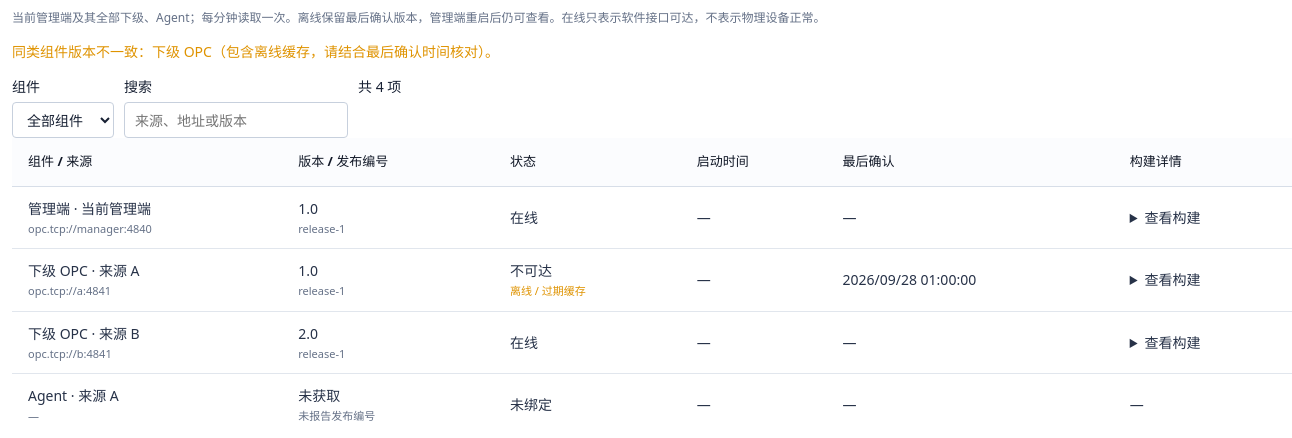
Test case: SoftwareVersionTable › filters by component and text without mixing identities
Select "下级 OPC" in the dropdown named "软件组件筛选": (63,120) [12, 102, 114, 138]
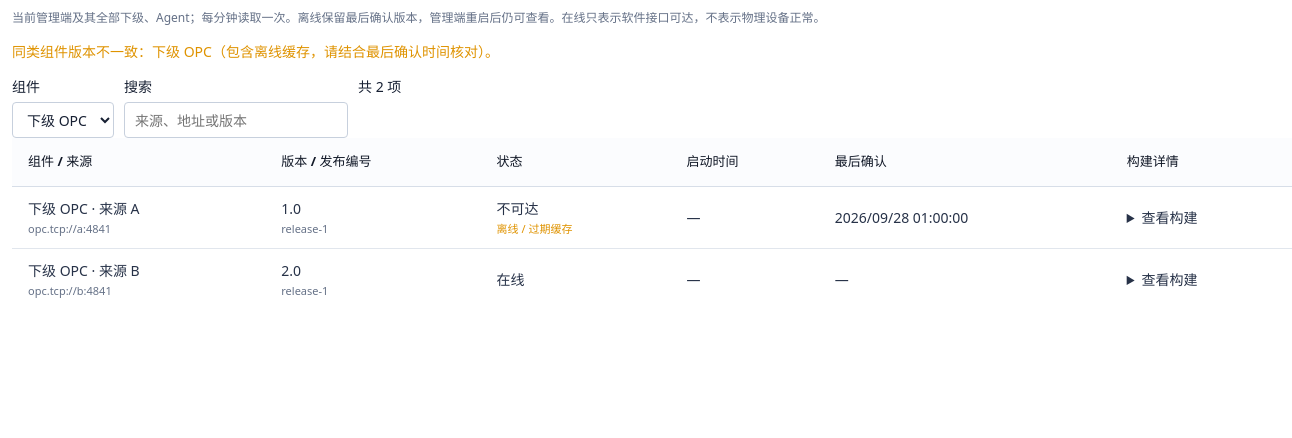
In the field named "搜索软件版本": (236,120) [124, 102, 348, 138], type "来源 B"
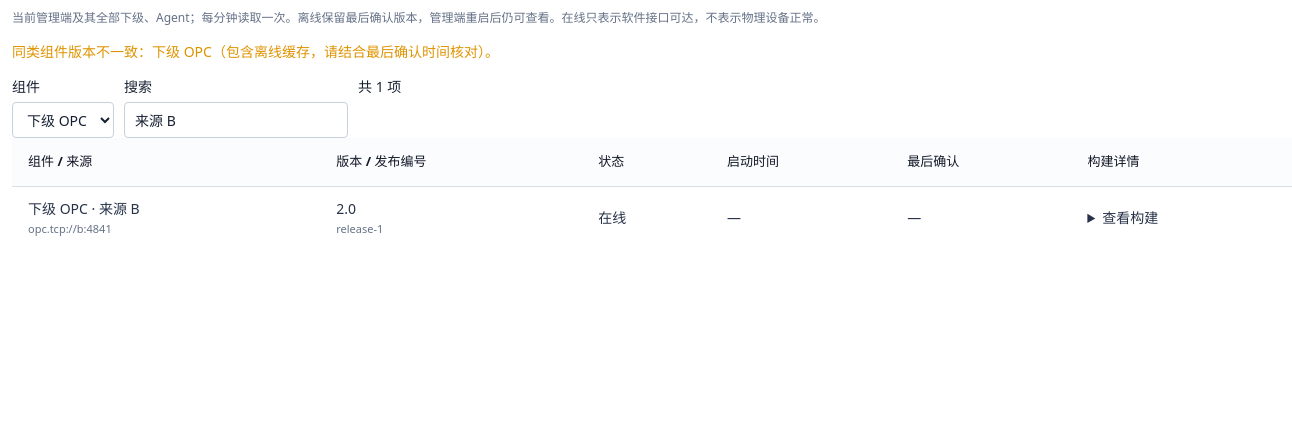
Expected: the text "2.0" is shown, [336, 198, 356, 218]
Expected: the text "共 1 项" is shown, [358, 77, 401, 96]
